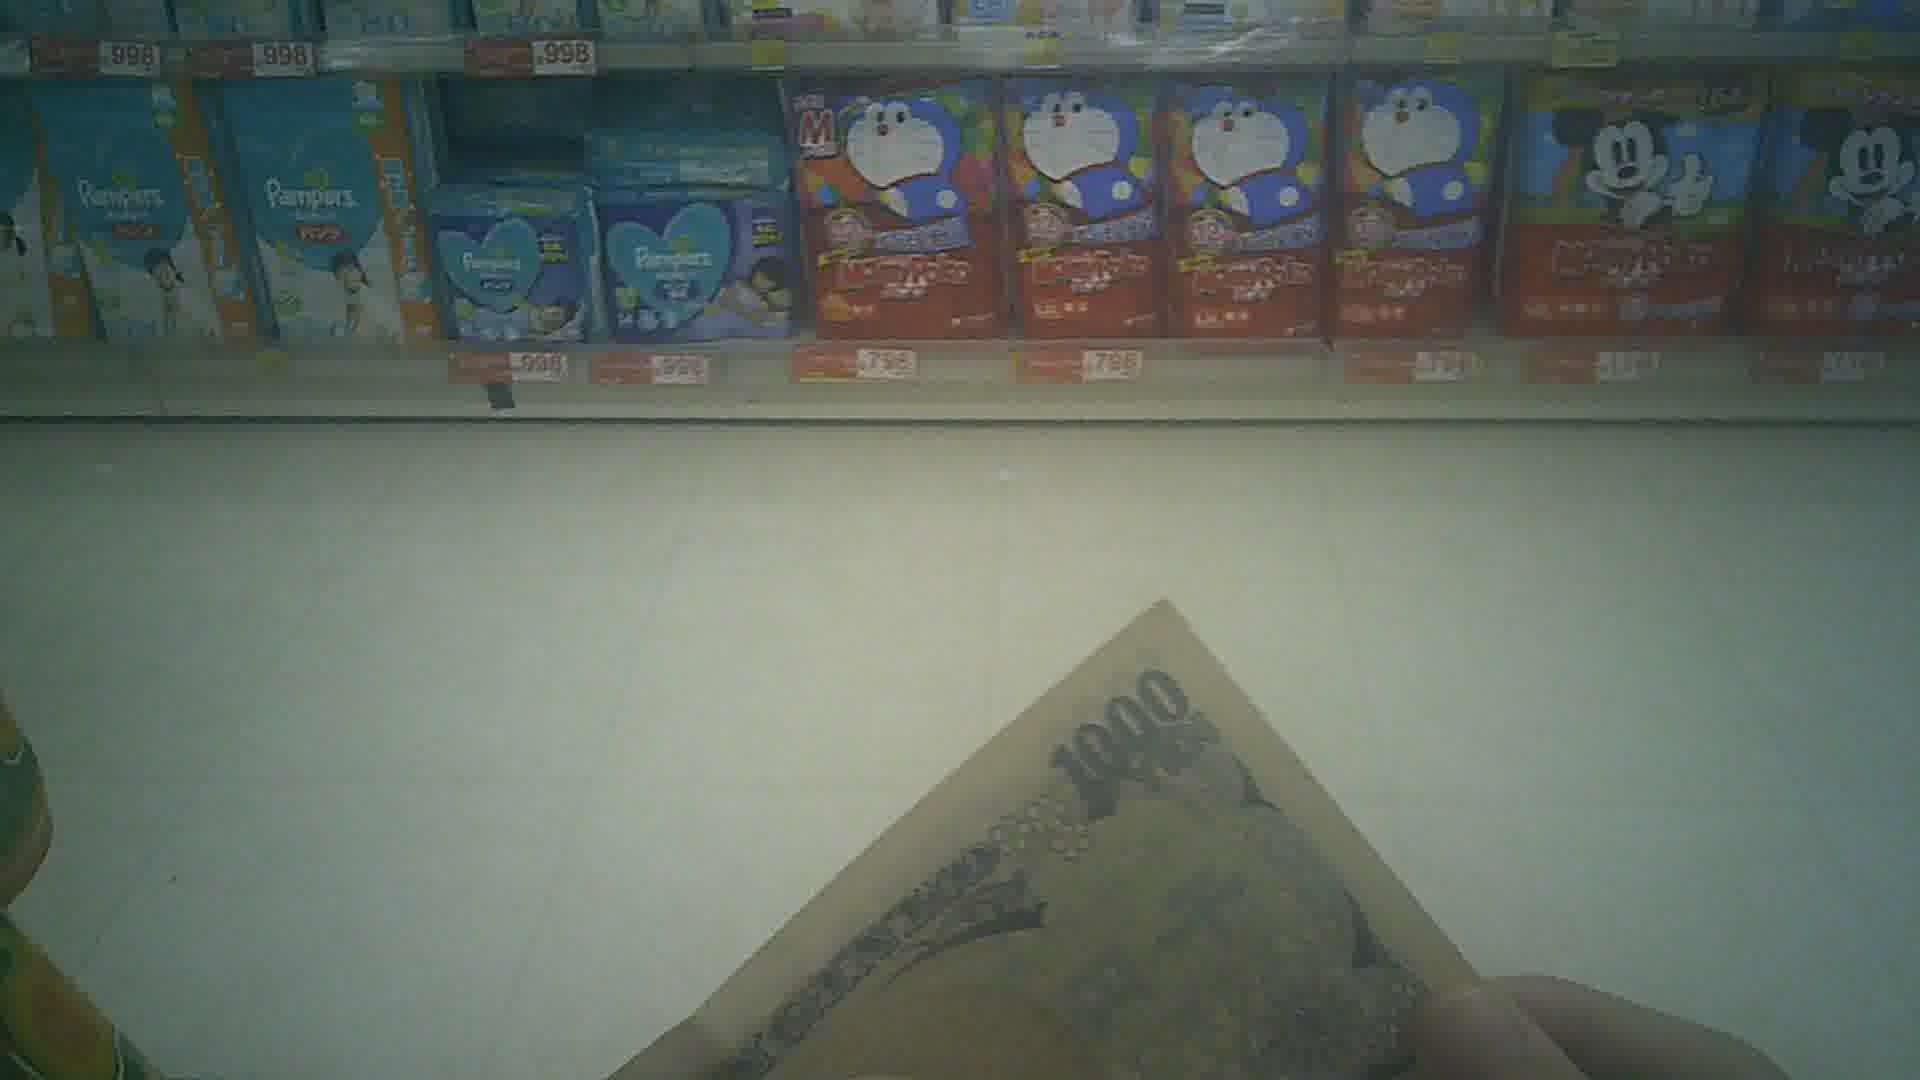1,000 Yen: (628, 559, 1487, 1065)
